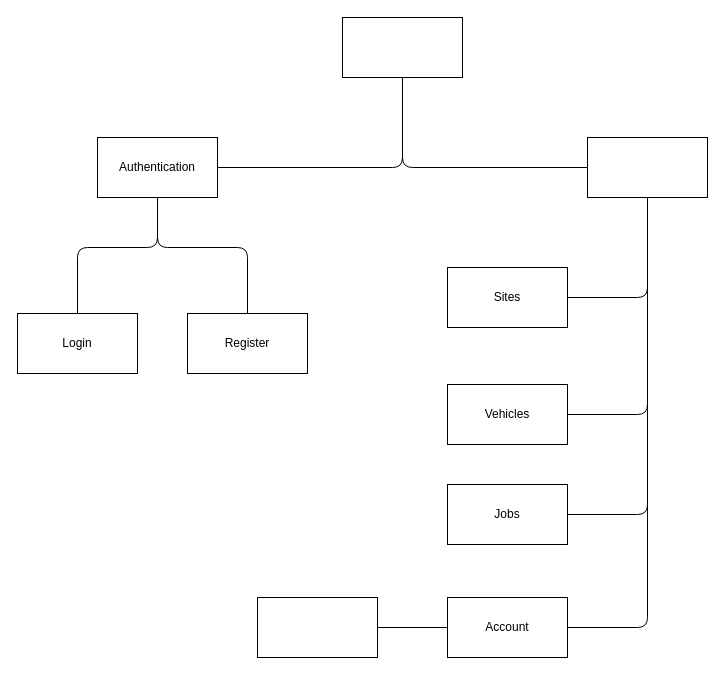
The diagram is 725 pixels wide and 675 high, and some of its shapes have lost their labels. Each missing label, with the centre of its shape:
"Home" goes at point 647,167.
"Logistics System" goes at point 402,47.
"Profile" goes at point 317,627.
